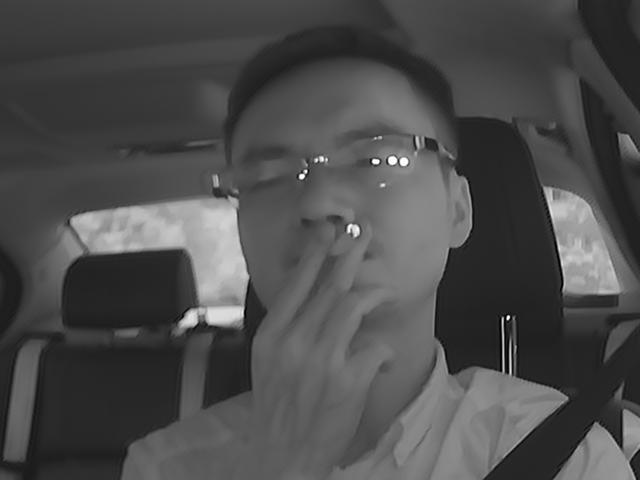hand: (252, 226, 403, 395)
